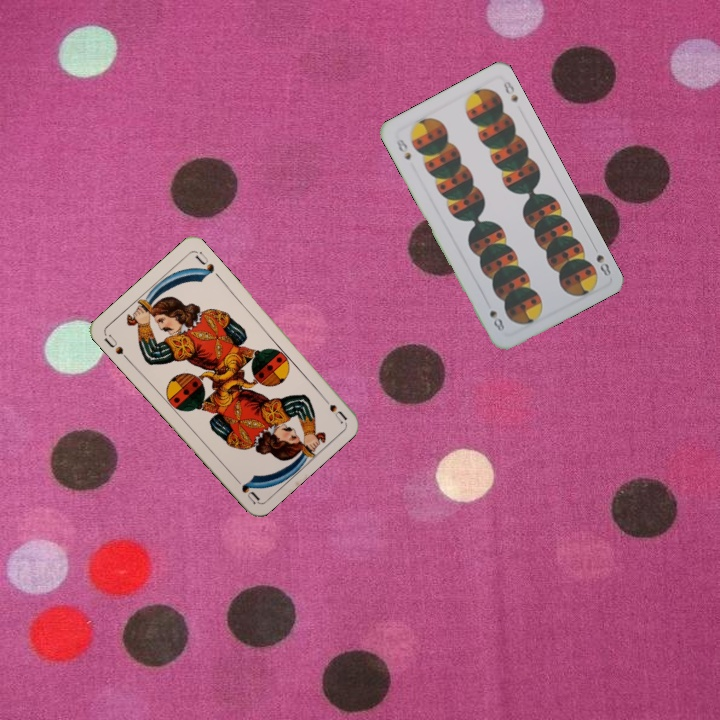S8: (589, 241, 614, 279), (392, 135, 414, 162)
SU: (316, 390, 350, 426), (100, 330, 132, 363)
